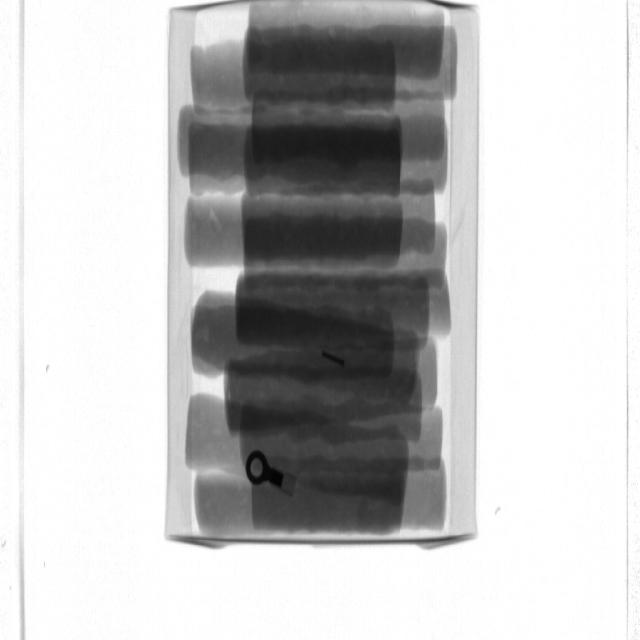ym: (246, 451, 288, 489), (325, 353, 348, 368)
